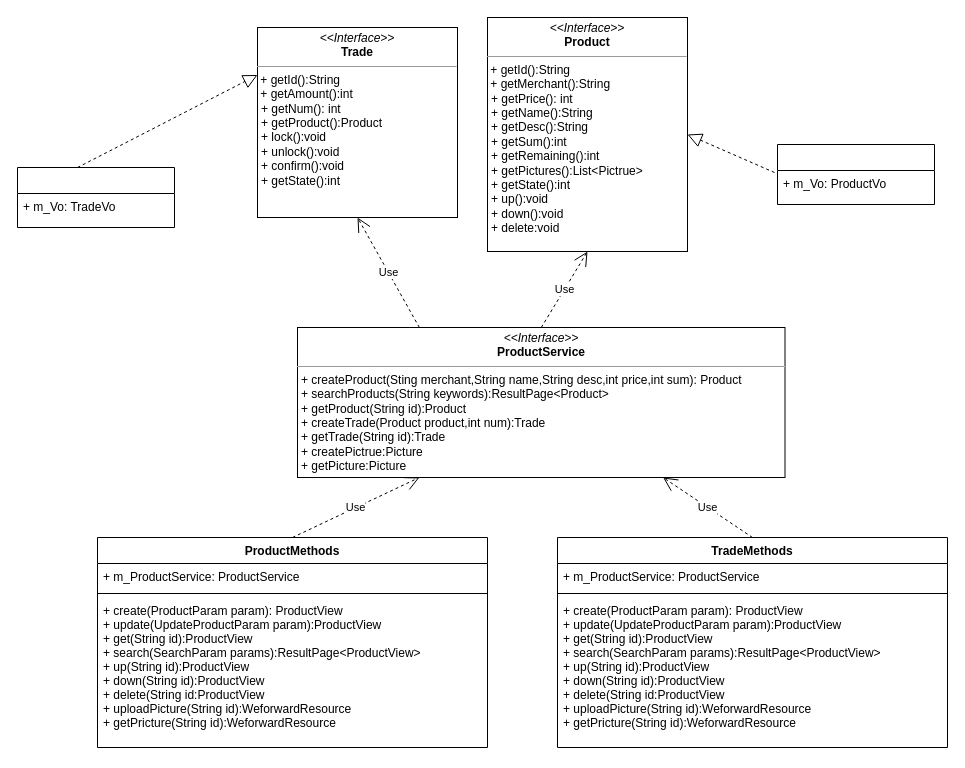
Some shapes in this 965 by 768 pixel diagram are drawn without their labels. Each missing label, with the box of its shape:
SimpleProduct: (776, 144, 934, 204)
SimpleTrade: (16, 166, 174, 228)
